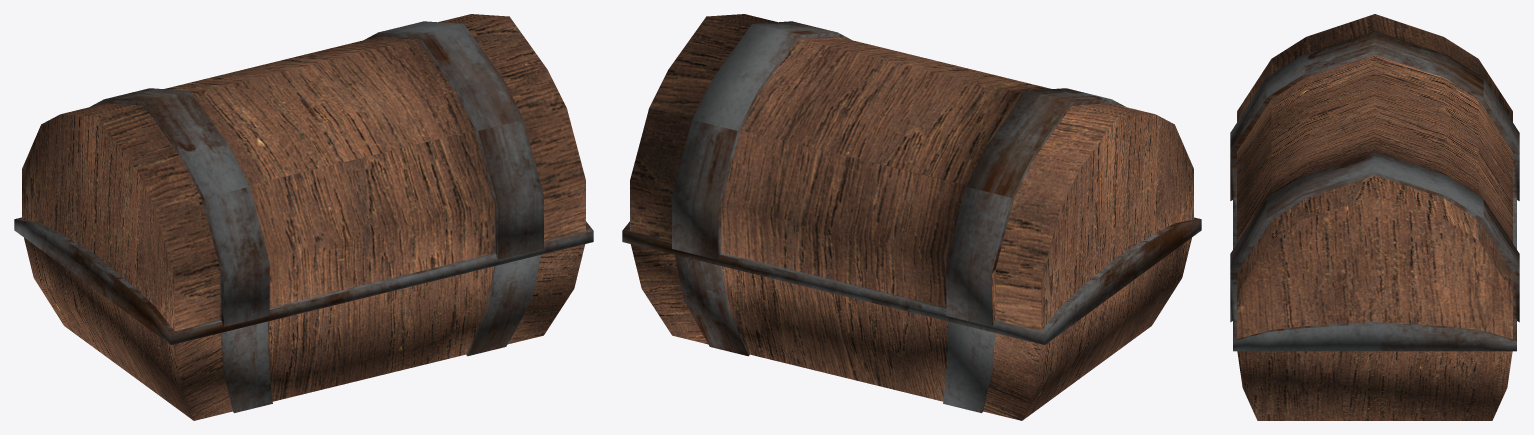
File: Chest1.fbx
3 views of the same model, side by side, from view 1: azimuth 30°, elevation 25°; view 2: azimuth 150°, elevation 25°; view 3: azimuth 270°, elevation 25° (orthographic). The views are drawn at different scales.
Visible parts, largest first — view 1: ChesrTop, ChestBottom; view 2: ChesrTop, ChestBottom; view 3: ChesrTop, ChestBottom.
Part boxes in pixels (x1,y1,x2,y2): ChesrTop: (14, 14, 593, 344); ChestBottom: (24, 238, 585, 420); ChesrTop: (622, 14, 1201, 344); ChestBottom: (630, 238, 1191, 420); ChesrTop: (1230, 14, 1519, 351); ChestBottom: (1237, 351, 1512, 420).
Size of the model in its own units: 184 by 112 by 121.
